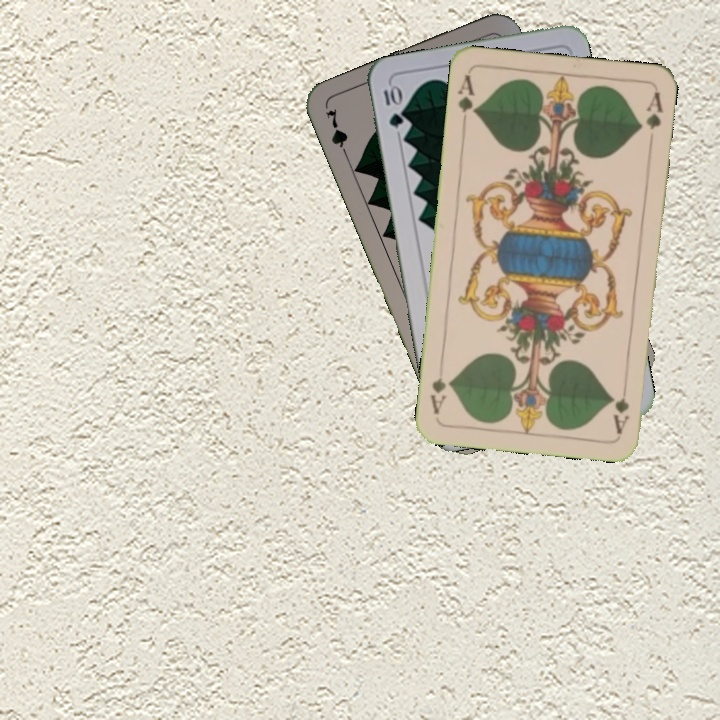G10: (379, 81, 406, 130)
G7: (322, 104, 352, 163)
GA: (454, 70, 480, 130), (609, 377, 632, 436)
